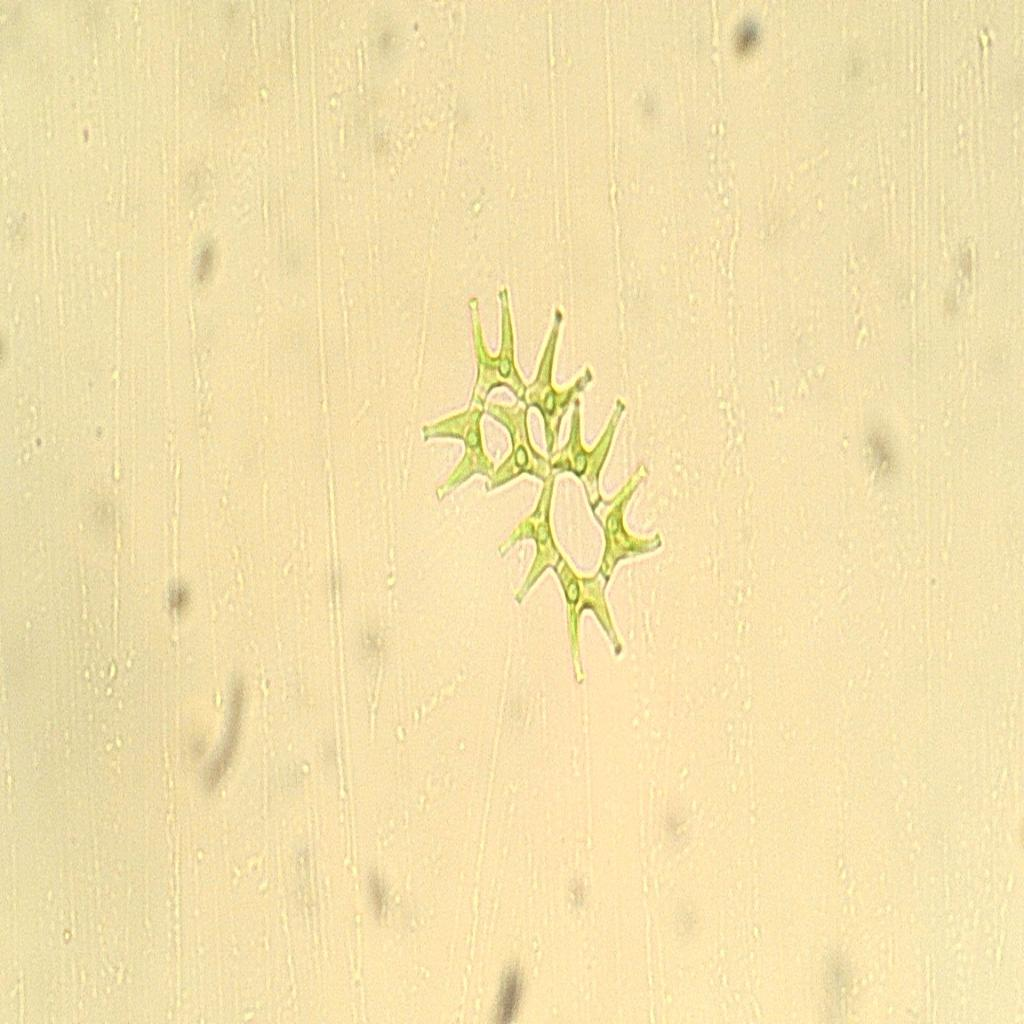Pediastrum_CFI: (411, 243, 677, 710)
